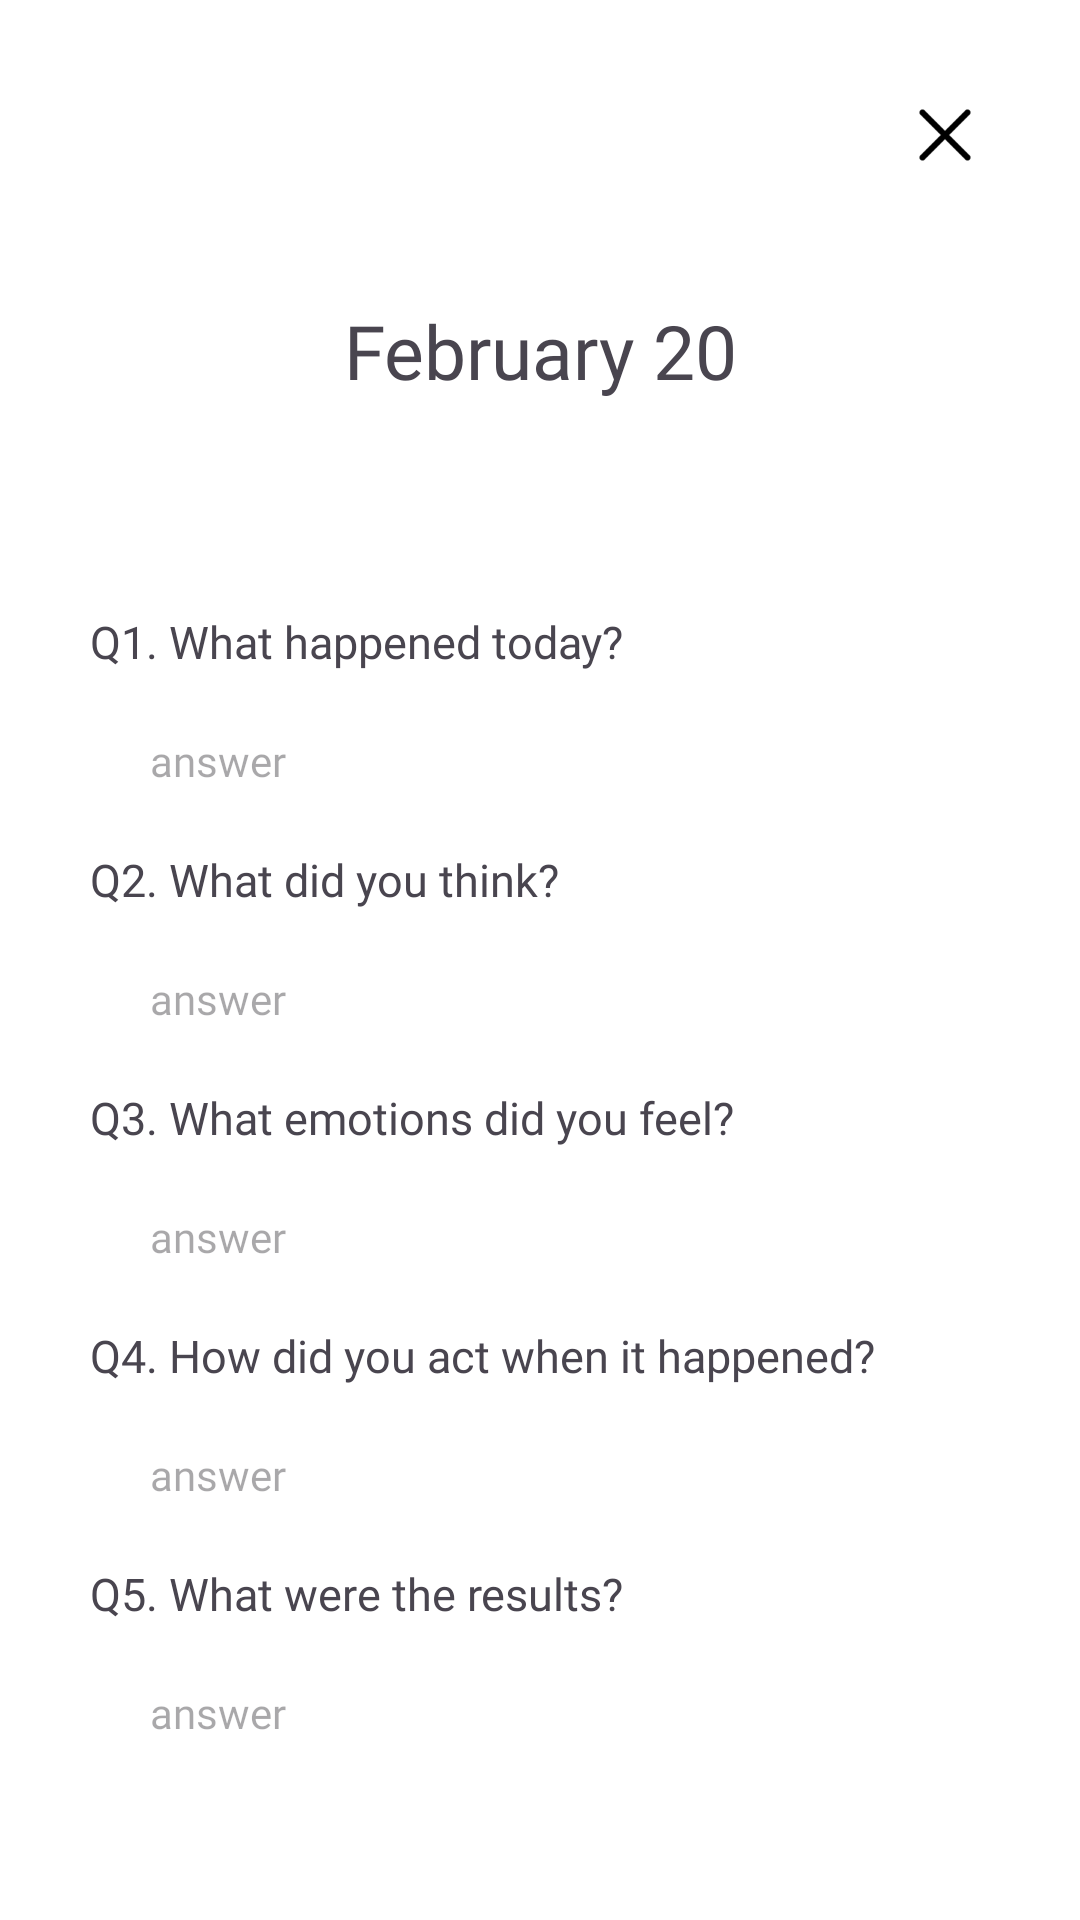

Screen size 1080 × 1920. Icon name, then its center in pixels as point (x, y):
cancel: point (945, 135)
